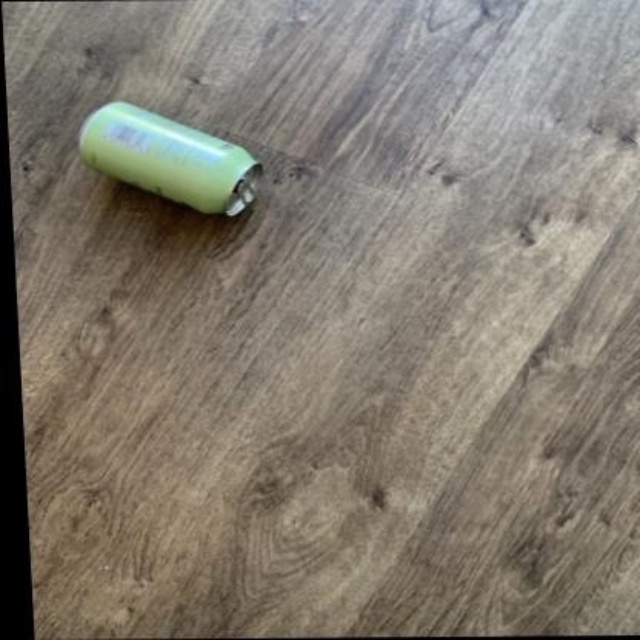trash: (78, 102, 260, 214)
